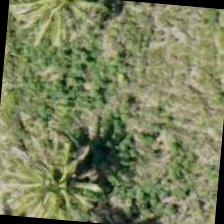Kelapa_Sawit: (14, 144, 112, 223), (8, 0, 103, 50)
